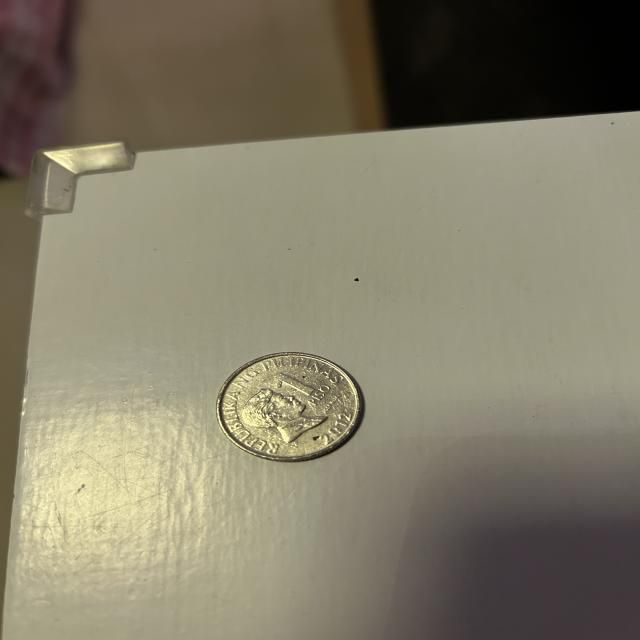1_Old_Front: (267, 370, 339, 407)
